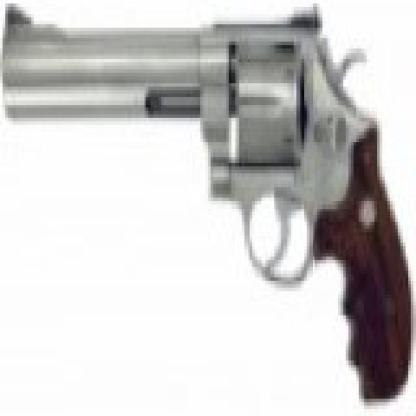pistol: (5, 3, 400, 402)
